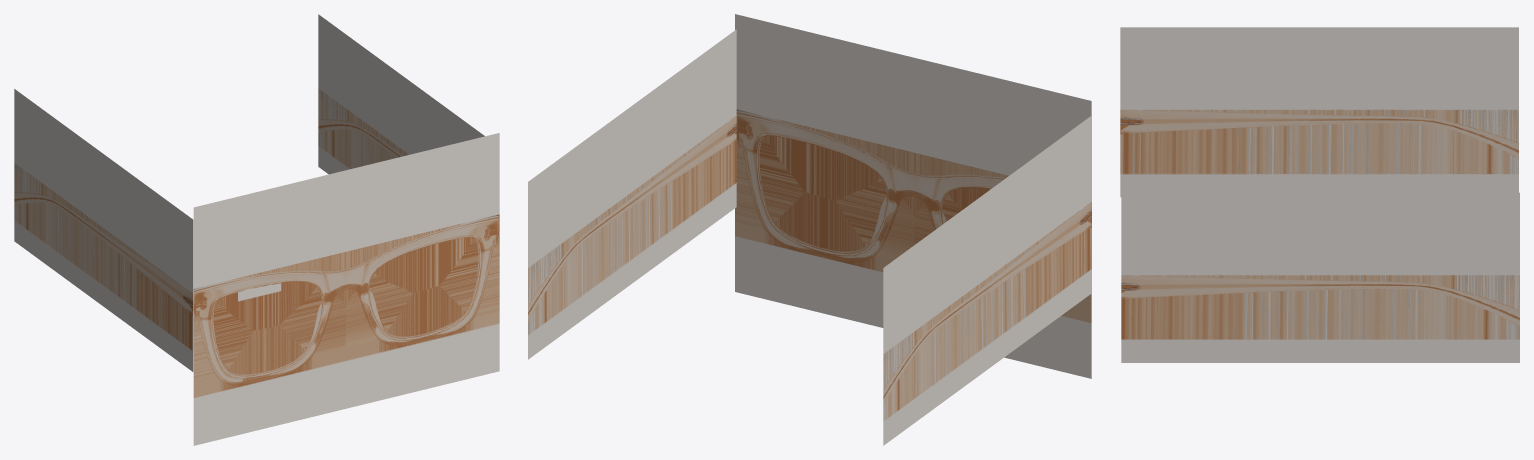
Rendered from broadway-flex-26_f7.glb.
The picture shows the model from 3 angles, left to right: view 1: azimuth 30°, elevation 25°; view 2: azimuth 150°, elevation 25°; view 3: azimuth 270°, elevation 25°; orthographic projection. The views are drawn at different scales.
Visible parts, largest first — view 1: Front, Right, Left; view 2: Front, Left, Right; view 3: Left, Right.
Part boxes in pixels (box(x1,y1,x2,y2)): Front: box(193, 133, 499, 445); Right: box(14, 89, 193, 371); Left: box(318, 14, 484, 174); Front: box(735, 14, 1091, 378); Left: box(528, 29, 736, 359); Right: box(883, 115, 1091, 445); Left: box(1121, 192, 1519, 362); Right: box(1120, 27, 1518, 197).
Bounding box in the file's own units: 147 × 109 × 149.
4 materials, 4 textured.
